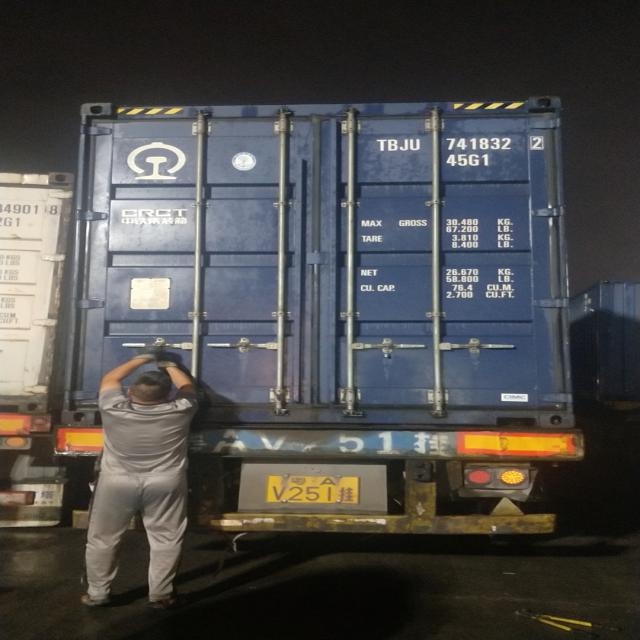seal: (380, 335, 396, 360)
